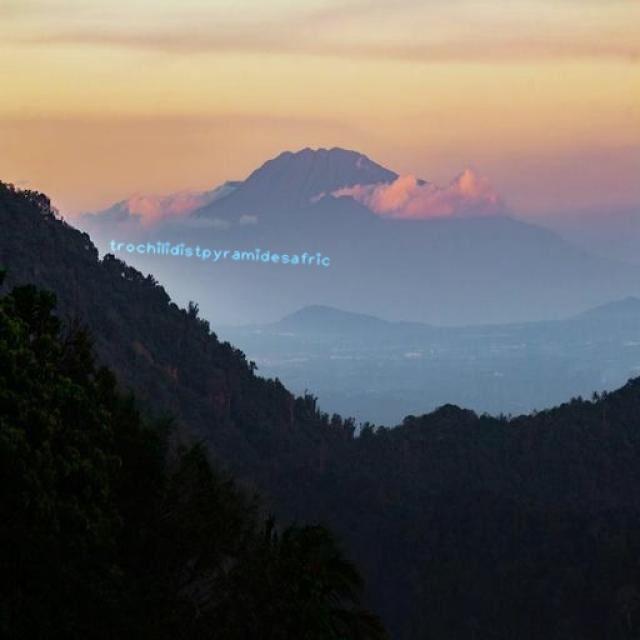watermark: (103, 238, 341, 268)
